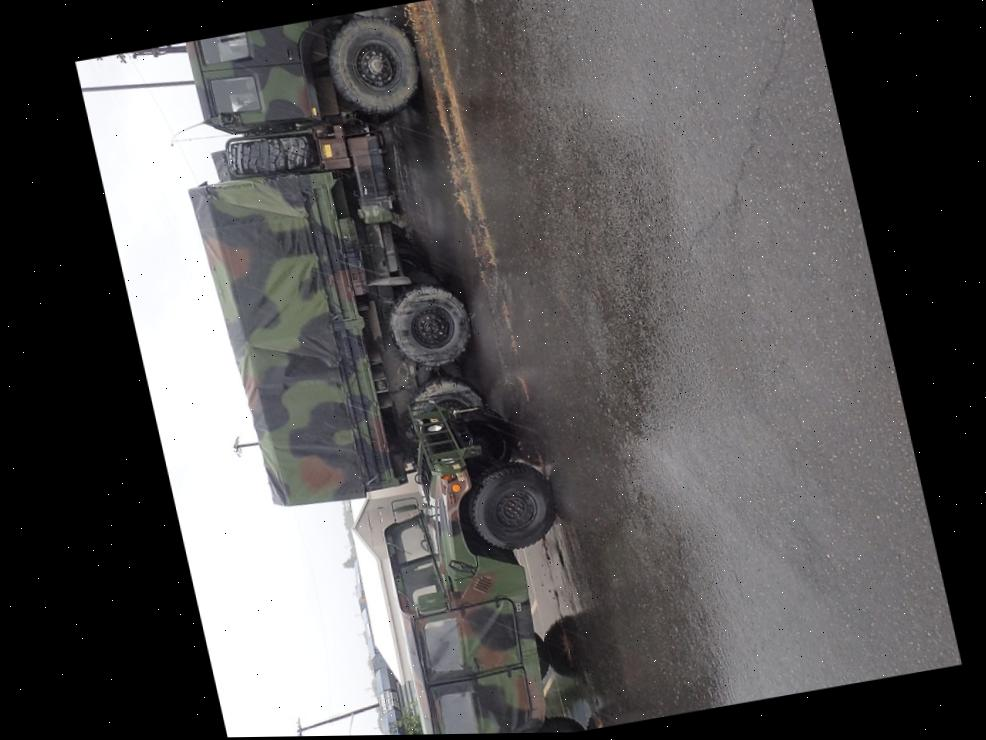armored_car: (326, 388, 605, 736)
truck: (133, 2, 517, 524)
